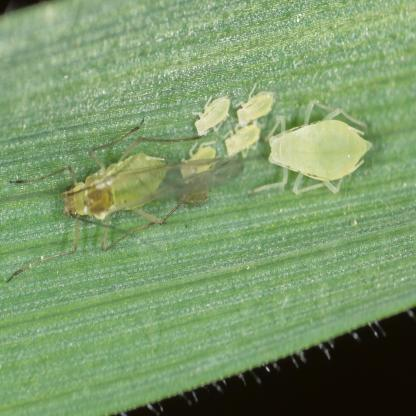aphid: (46, 118, 186, 251), (261, 91, 375, 211), (174, 131, 222, 187), (191, 84, 230, 140), (233, 84, 280, 130), (221, 119, 266, 162)
